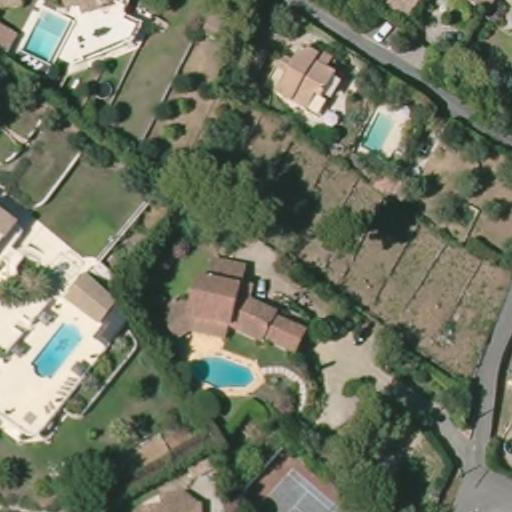pool: (185, 349, 260, 392), (29, 322, 82, 380), (20, 9, 73, 63), (356, 106, 399, 156)
